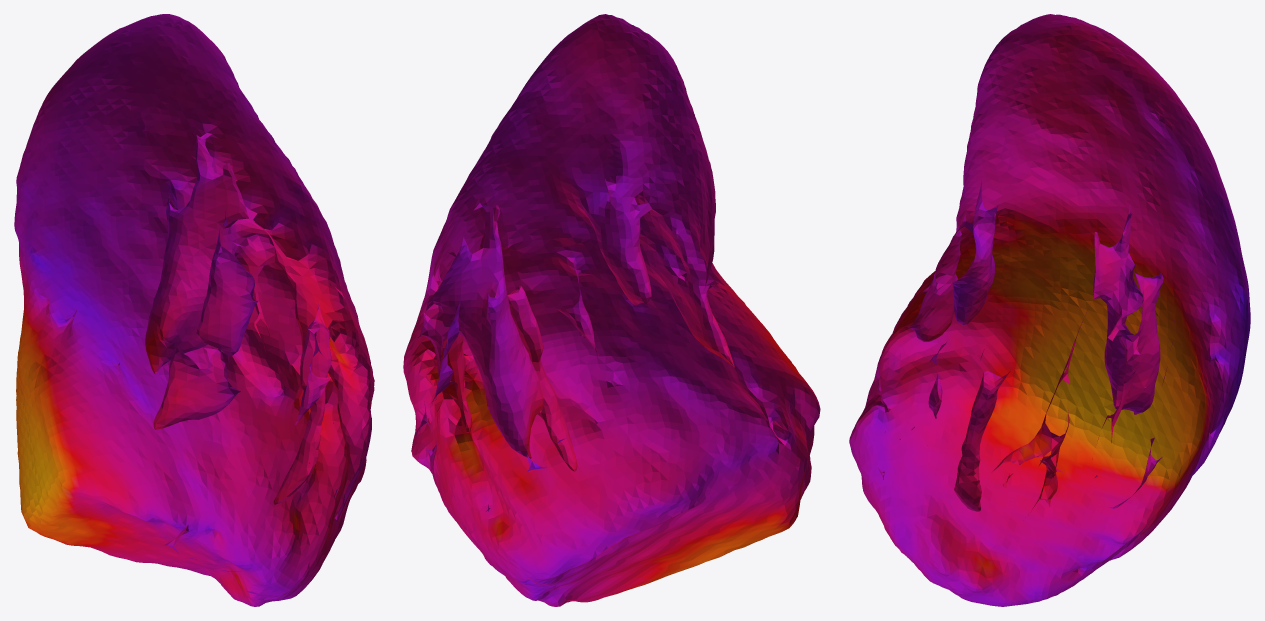
The model's file is 83_SQZData_3-processed.glb.
The picture shows the model from 3 angles, left to right: view 1: azimuth 30°, elevation 25°; view 2: azimuth 150°, elevation 25°; view 3: azimuth 270°, elevation 25°; orthographic projection. The views are drawn at different scales.
Visible parts, largest first — view 1: Renderer Node; view 2: Renderer Node; view 3: Renderer Node.
Part boxes in pixels (x1,y1,x2,y2): Renderer Node: (14, 14, 374, 606); Renderer Node: (403, 14, 820, 606); Renderer Node: (849, 14, 1250, 606).
Bounding box in the file's own units: 40.71 × 64.45 × 42.48.
